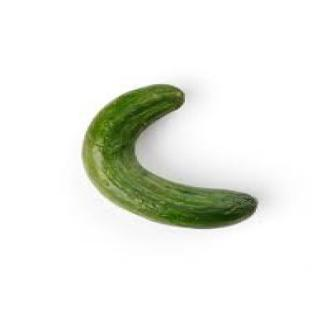Cucumber: (83, 85, 257, 227)
